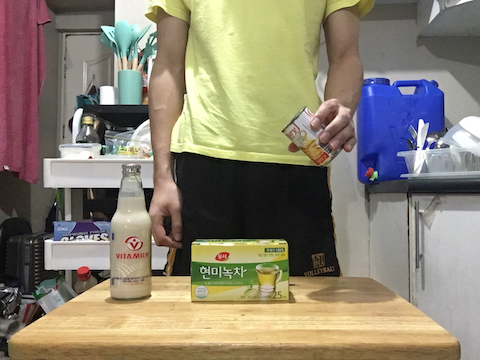bottle: (106, 157, 158, 303)
box: (187, 235, 295, 305)
can: (280, 102, 341, 171)
grab: (307, 96, 363, 157)
